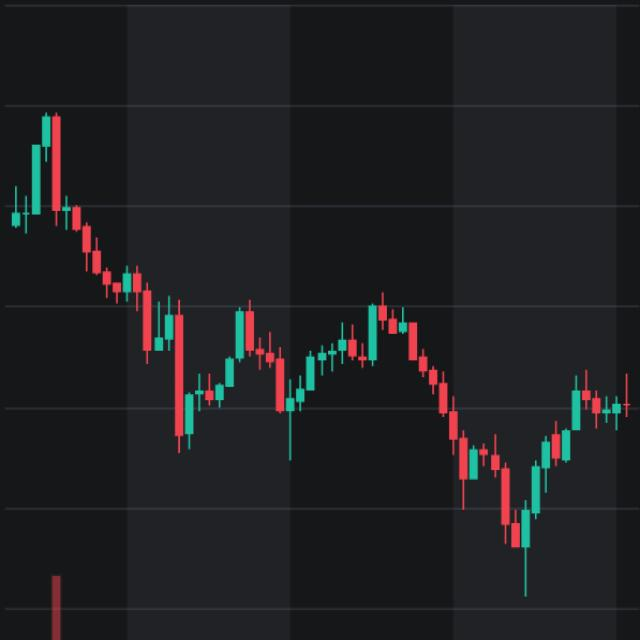Resistance-Emerging: (179, 293, 458, 422)
